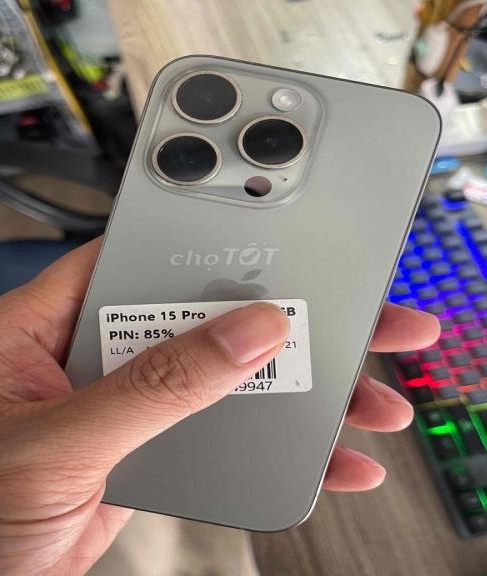scratch: (147, 69, 310, 198)
